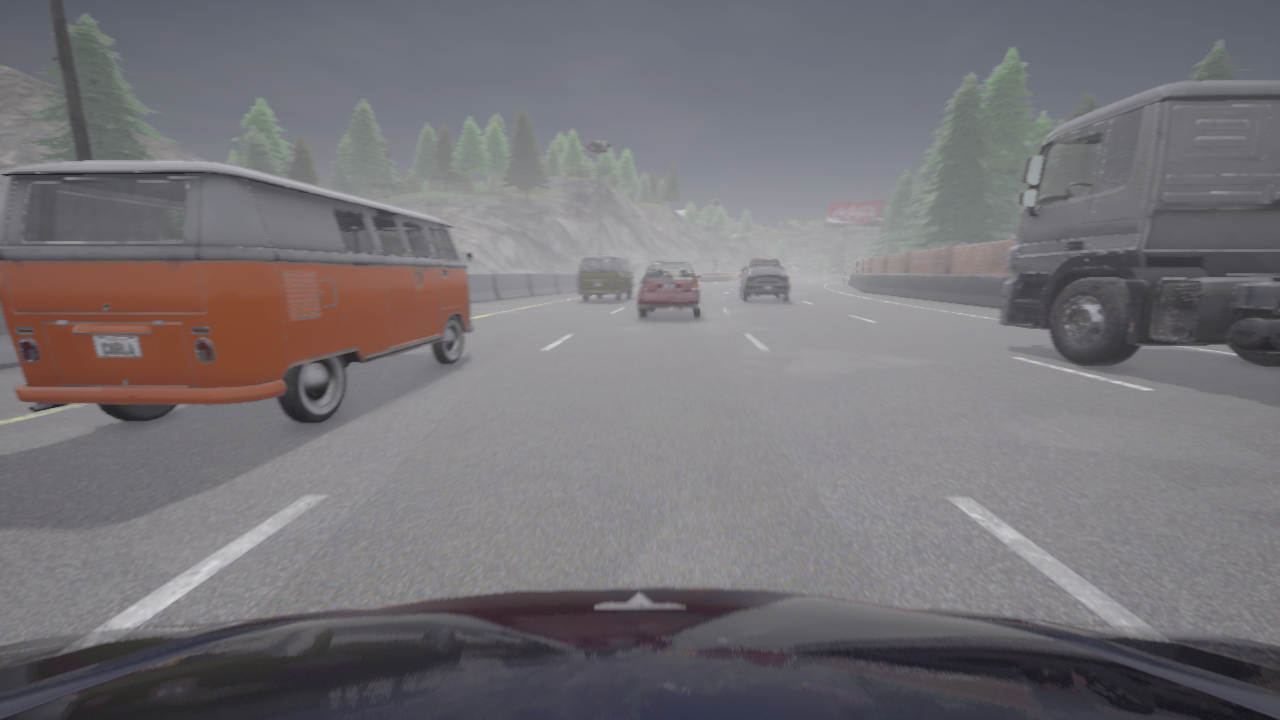cyclist: (0, 588, 1279, 719), (0, 161, 472, 424), (1000, 81, 1279, 366), (638, 261, 702, 318), (579, 255, 634, 301), (739, 263, 789, 302), (744, 259, 783, 270)
